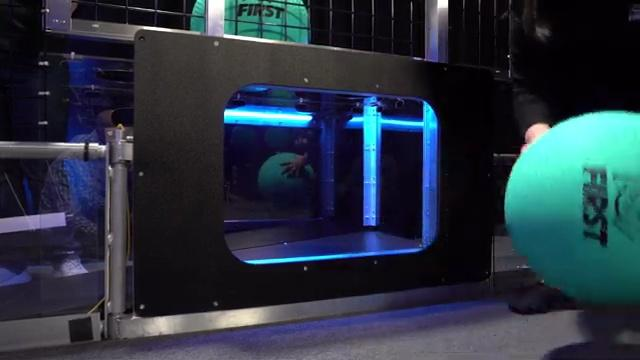ALGAE: (502, 108, 638, 306), (190, 0, 310, 46)
